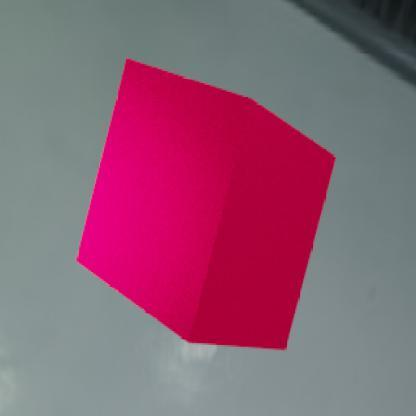cube: (76, 57, 336, 350)
